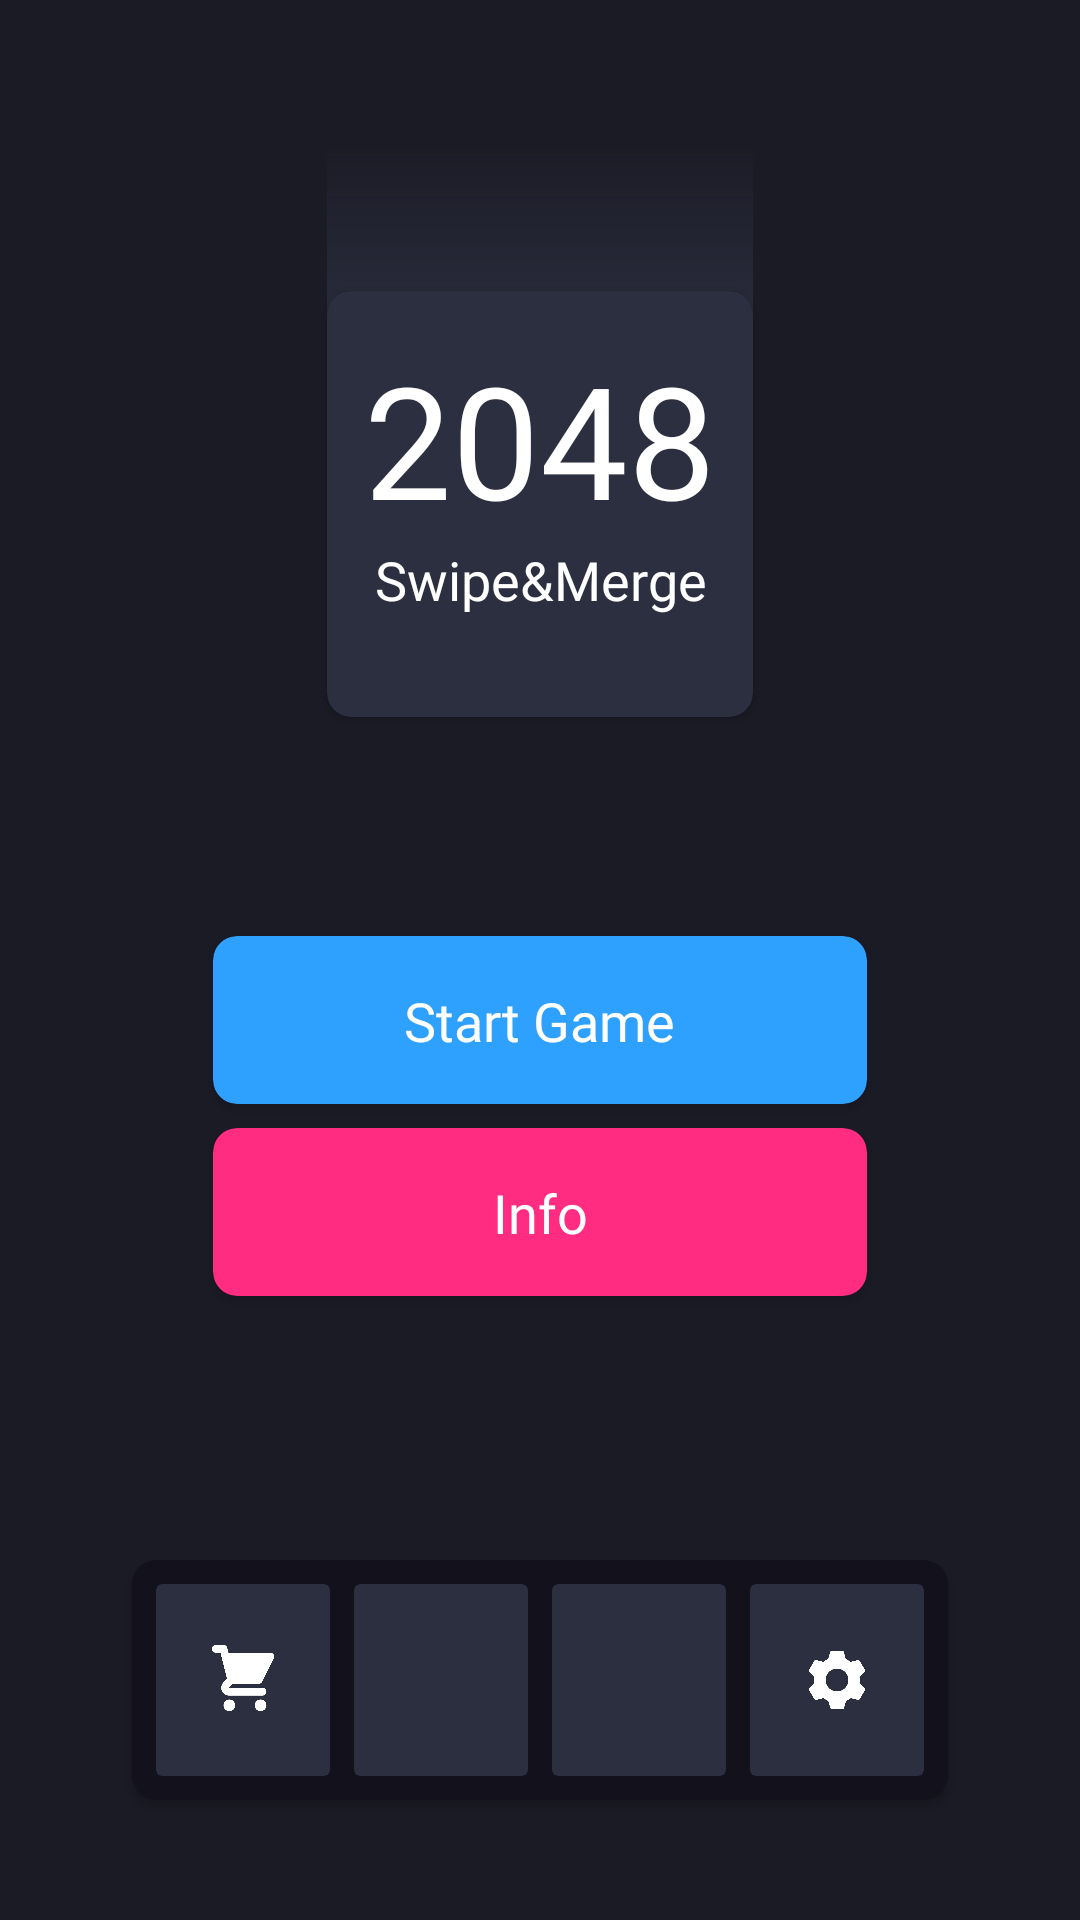

Icon click points for this 1080w x 1920h phone screenshot, format (x,y):
cart: (243,1680)
settings: (837,1680)
